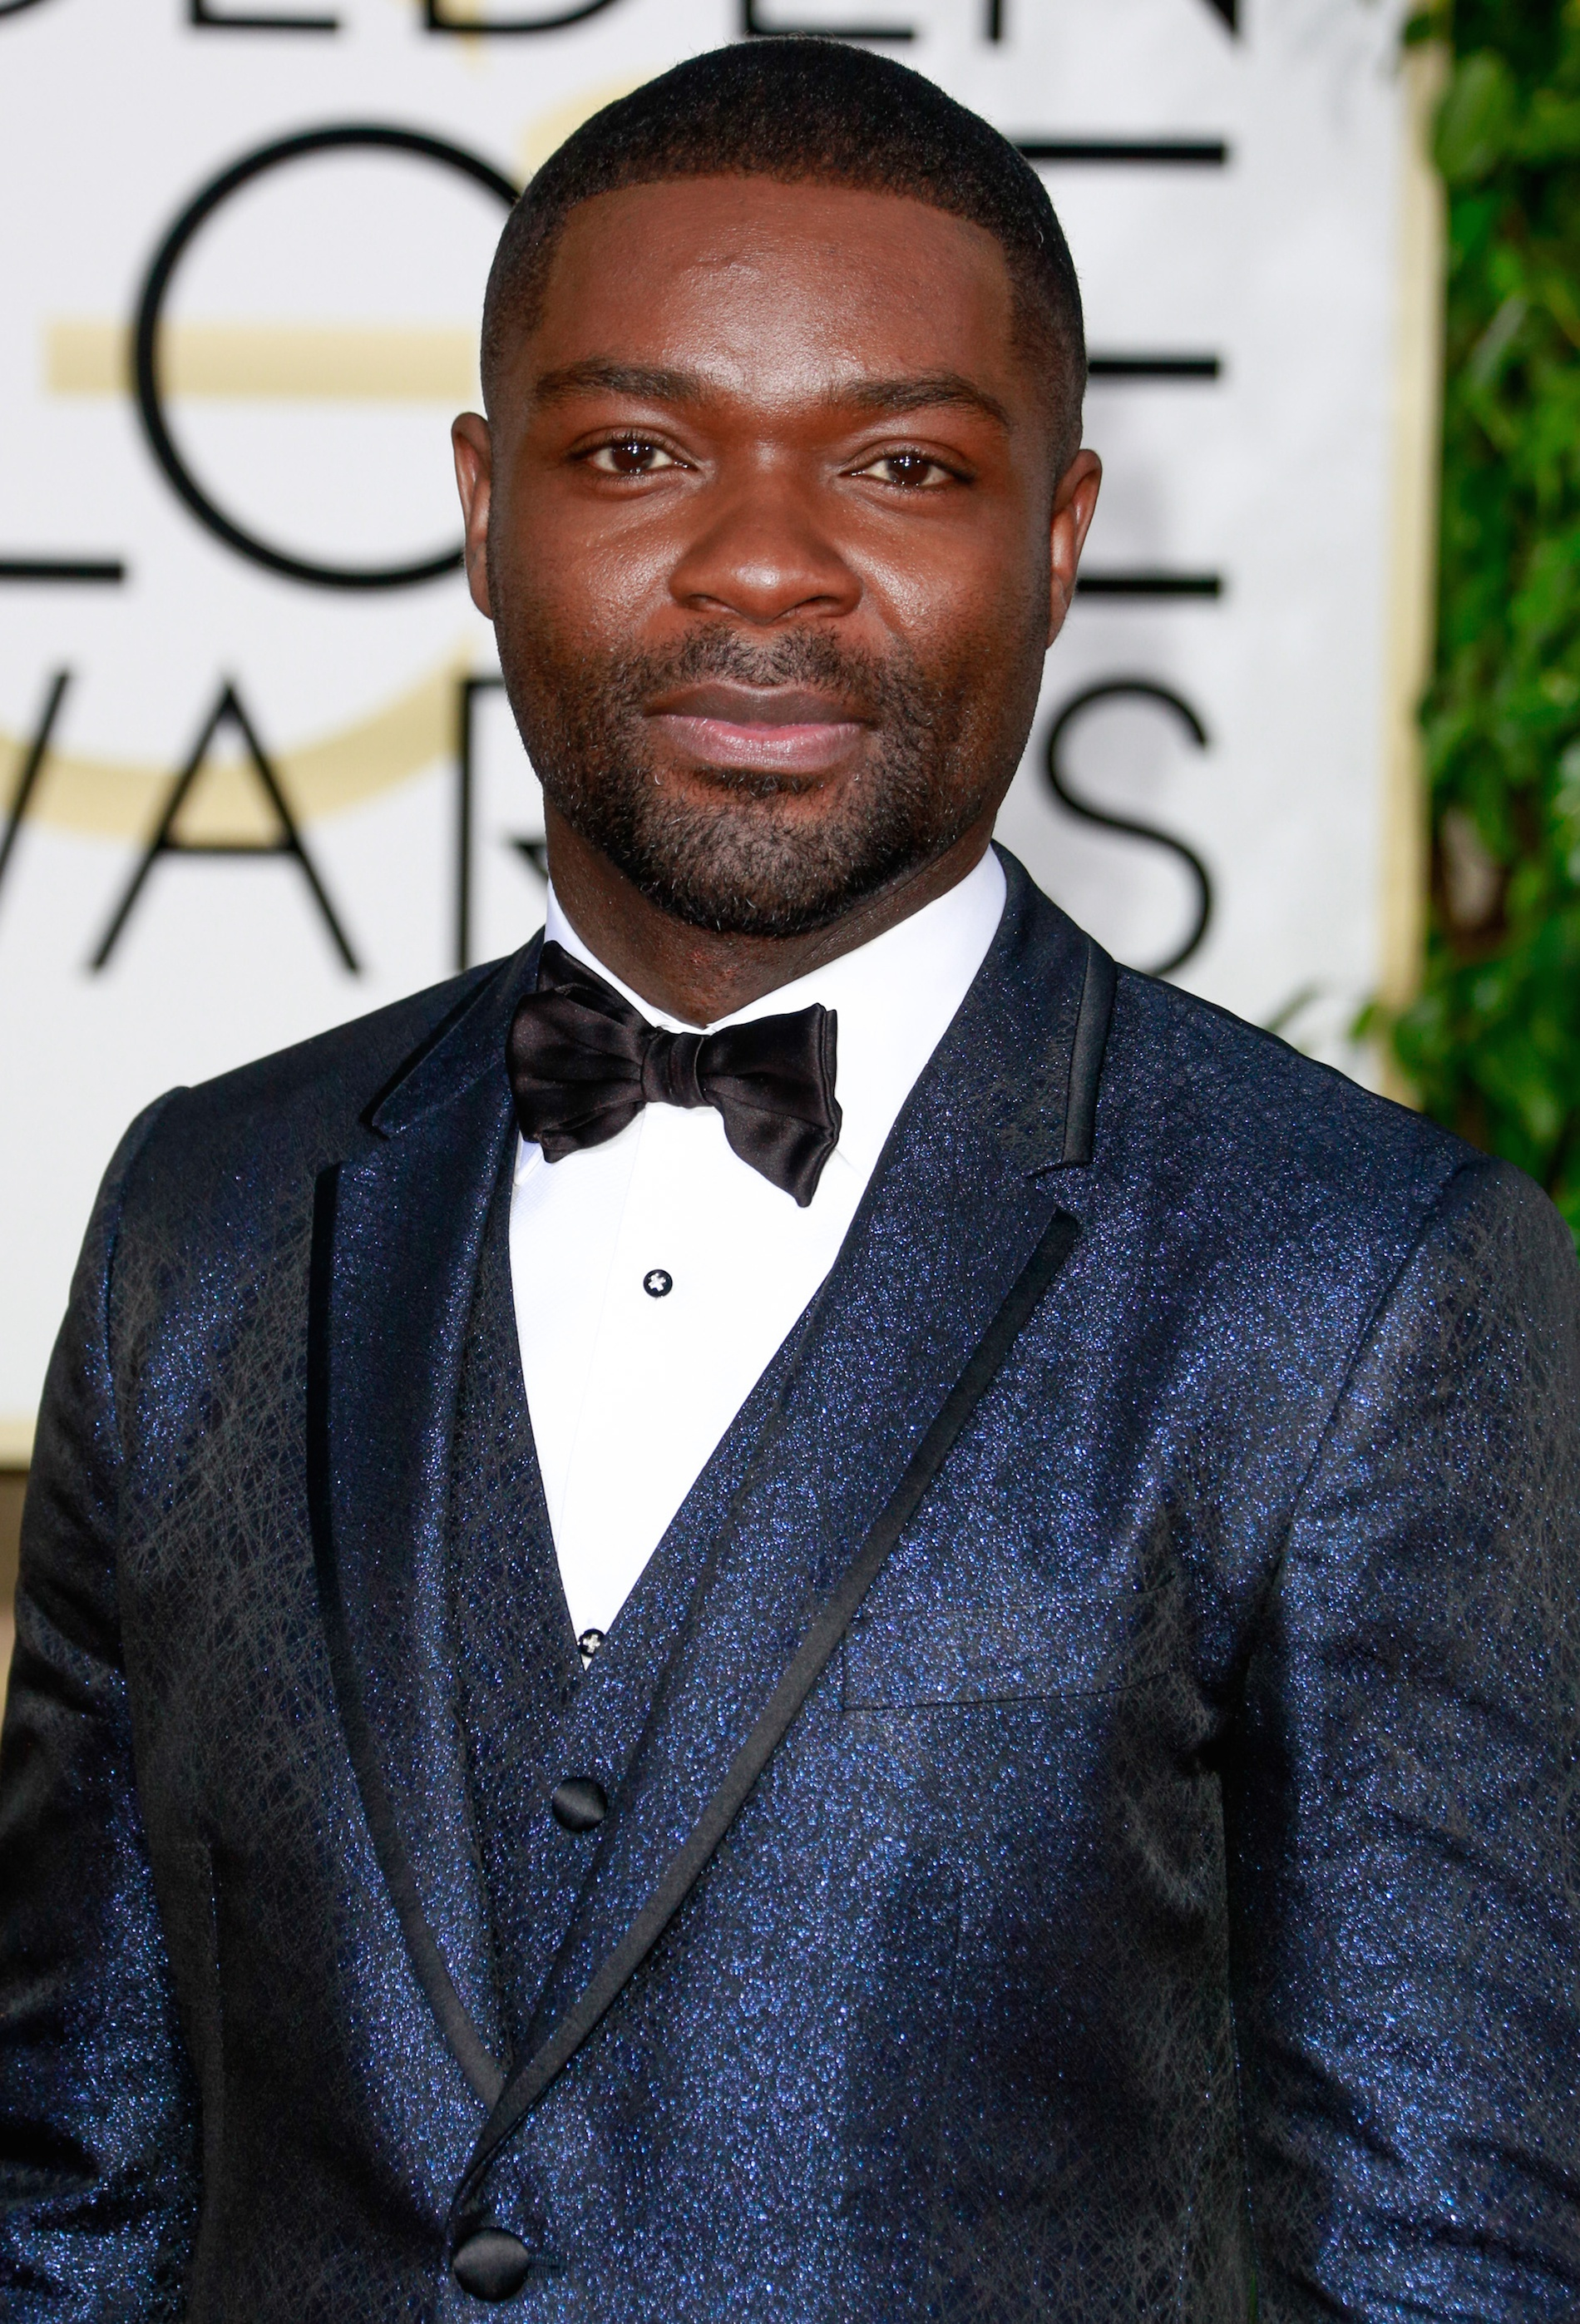bad: (480, 294, 1032, 848)
